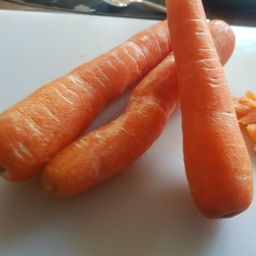Sliced carrots: (4, 12, 256, 233), (155, 2, 256, 221)
